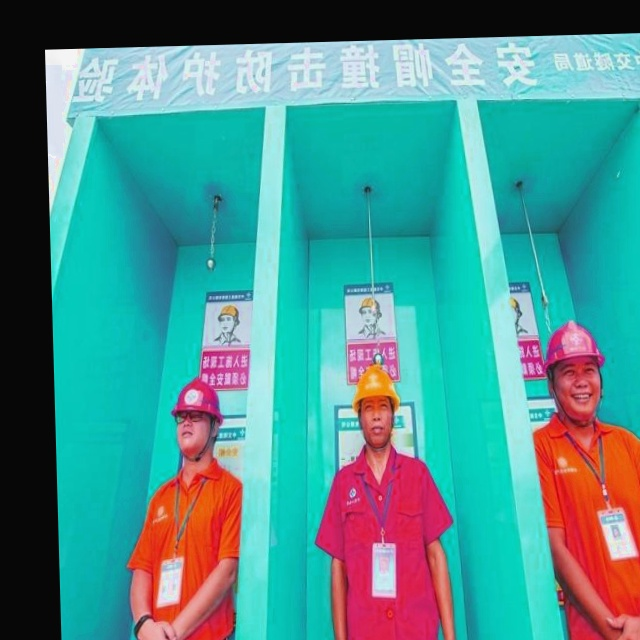Con_Casco: (546, 321, 604, 418), (173, 376, 222, 458), (354, 362, 398, 448)
Sin_Chaleco: (333, 450, 442, 640), (135, 466, 240, 640)
